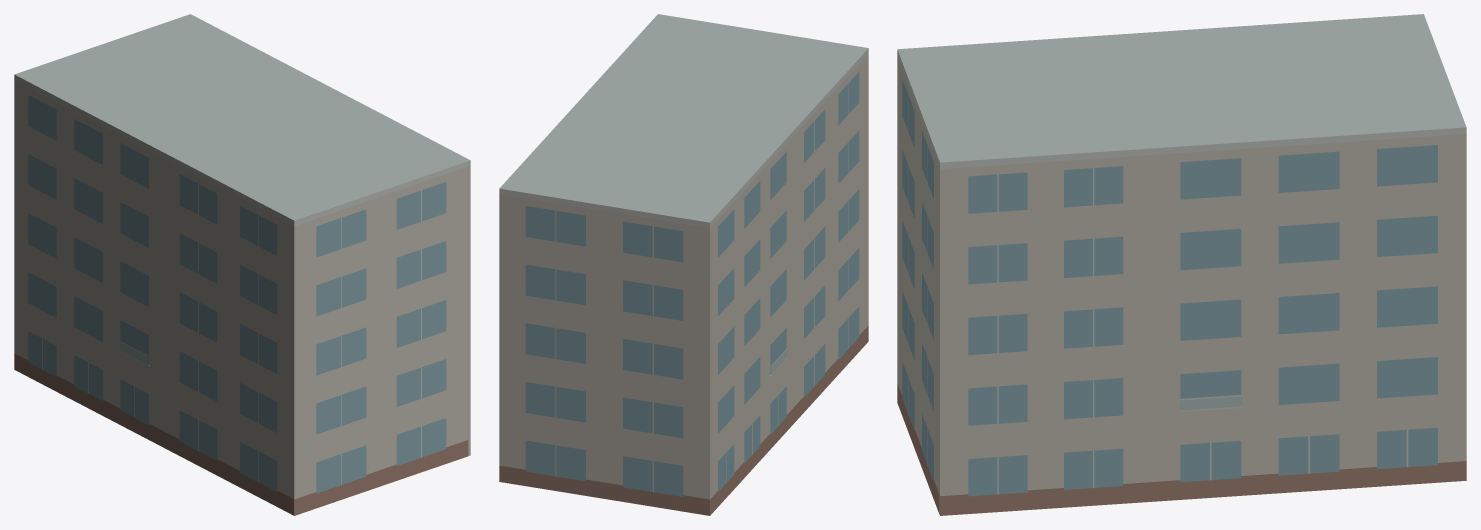
Rendered from survey-upis-32614142.glb.
3 views of the same model, side by side, from view 1: azimuth 30°, elevation 25°; view 2: azimuth 150°, elevation 25°; view 3: azimuth 270°, elevation 25° (orthographic). The views are drawn at different scales.
Visible parts, largest first — view 1: survey-upis-32614142.tmp; view 2: survey-upis-32614142.tmp; view 3: survey-upis-32614142.tmp.
Part boxes in pixels (x1,y1,x2,y2): survey-upis-32614142.tmp: [14, 14, 470, 515]; survey-upis-32614142.tmp: [499, 14, 868, 515]; survey-upis-32614142.tmp: [897, 14, 1466, 515].
Bounding box in the file's own units: 12.1 × 13.4 × 19.58.
